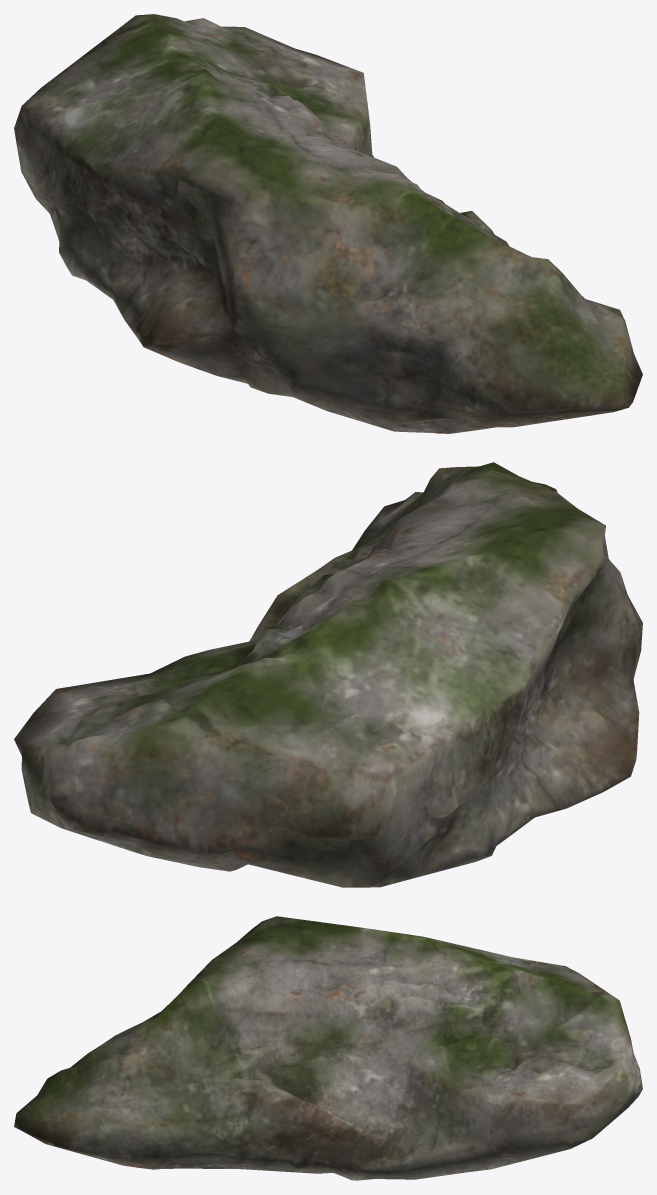
The model's file is Outcrop_B.fbx.
3 renders of one model, top to bottom at view 1: azimuth 30°, elevation 25°; view 2: azimuth 150°, elevation 25°; view 3: azimuth 270°, elevation 25°, orthographic. The views are drawn at different scales.
Visible parts, largest first — view 1: Outcrop_B_LOD0; view 2: Outcrop_B_LOD0; view 3: Outcrop_B_LOD0.
Part boxes in pixels (x1=…): Outcrop_B_LOD0: x1=14, y1=14, x2=642, y2=433; Outcrop_B_LOD0: x1=14, y1=462, x2=642, y2=887; Outcrop_B_LOD0: x1=14, y1=916, x2=642, y2=1180.
Size of what is drawn, in the model's own units: 3.3 by 2.34 by 6.64.
1 material, 1 textured.
